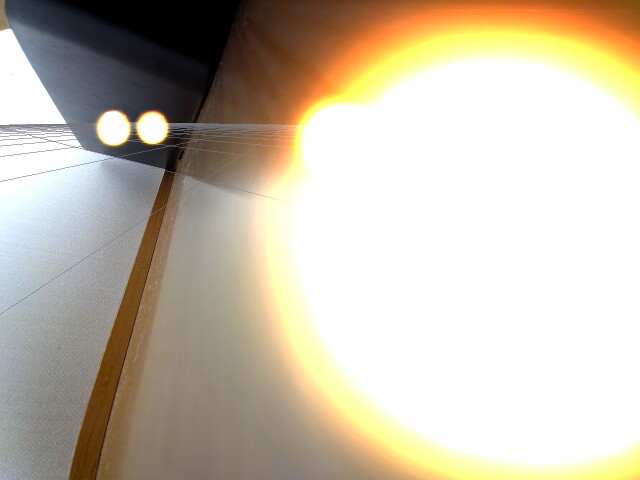fire: (271, 12, 637, 477), (291, 95, 363, 169), (94, 107, 132, 147), (134, 107, 172, 146)
